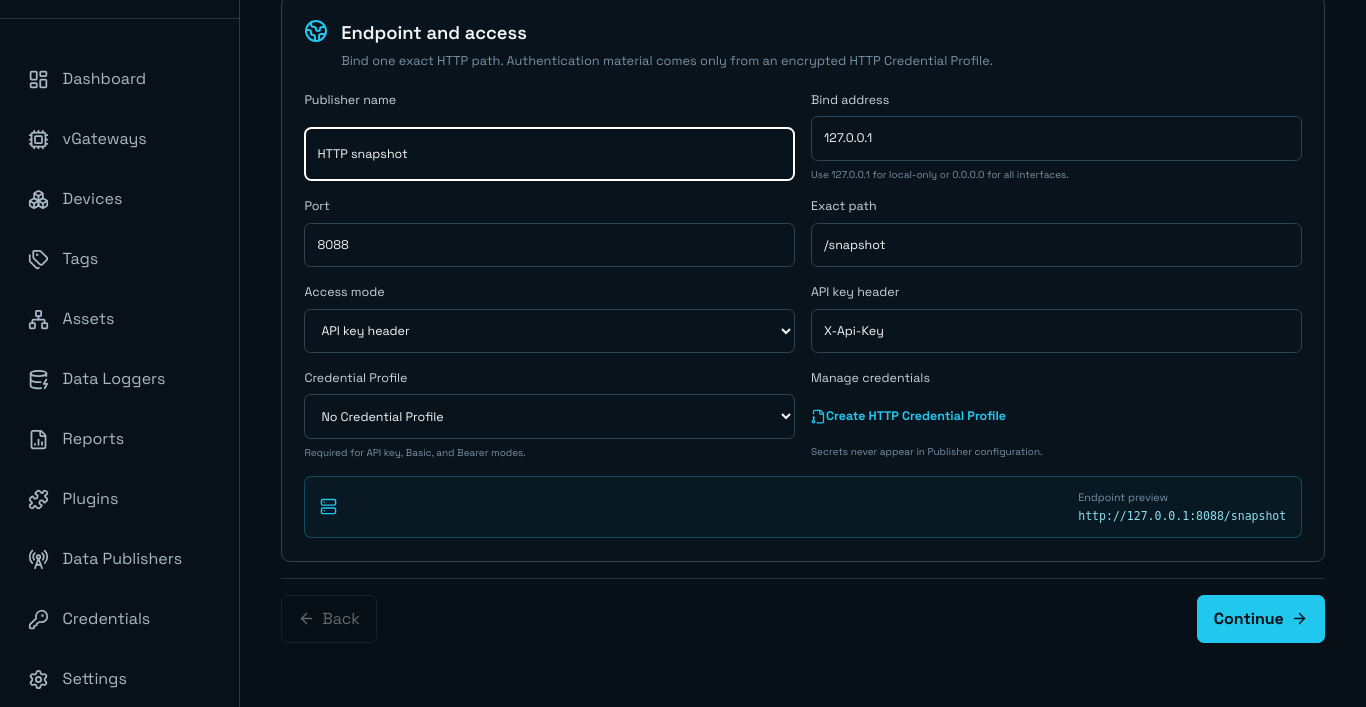
Test: HTTPServerPublisherWizardPage › requires an explicit operator acknowledgement for anonymous access
(page scrolled)
Select "Anonymous" in the dropdown labelled "Access mode" at (550,331), box left=304, top=308, right=795, bottom=353
(page scrolled)
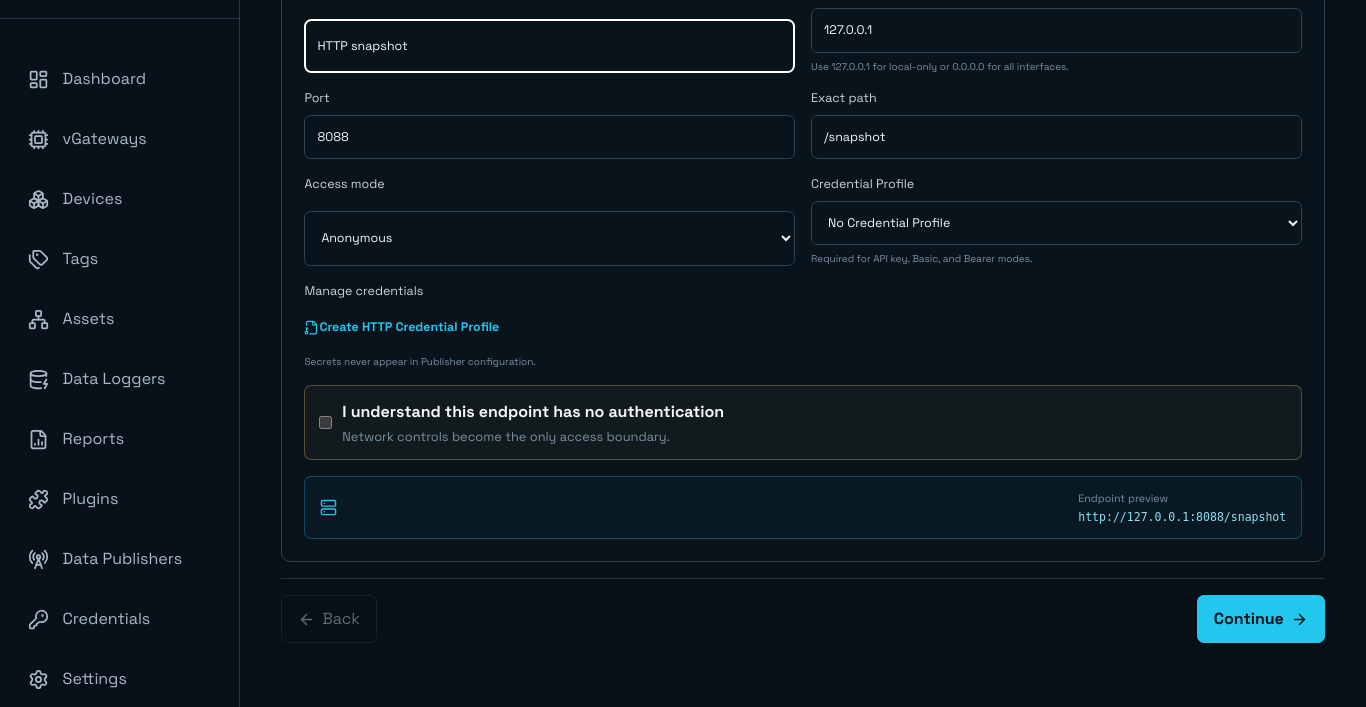
Click the button "Continue" at (1261,619), box left=1197, top=595, right=1325, bottom=643
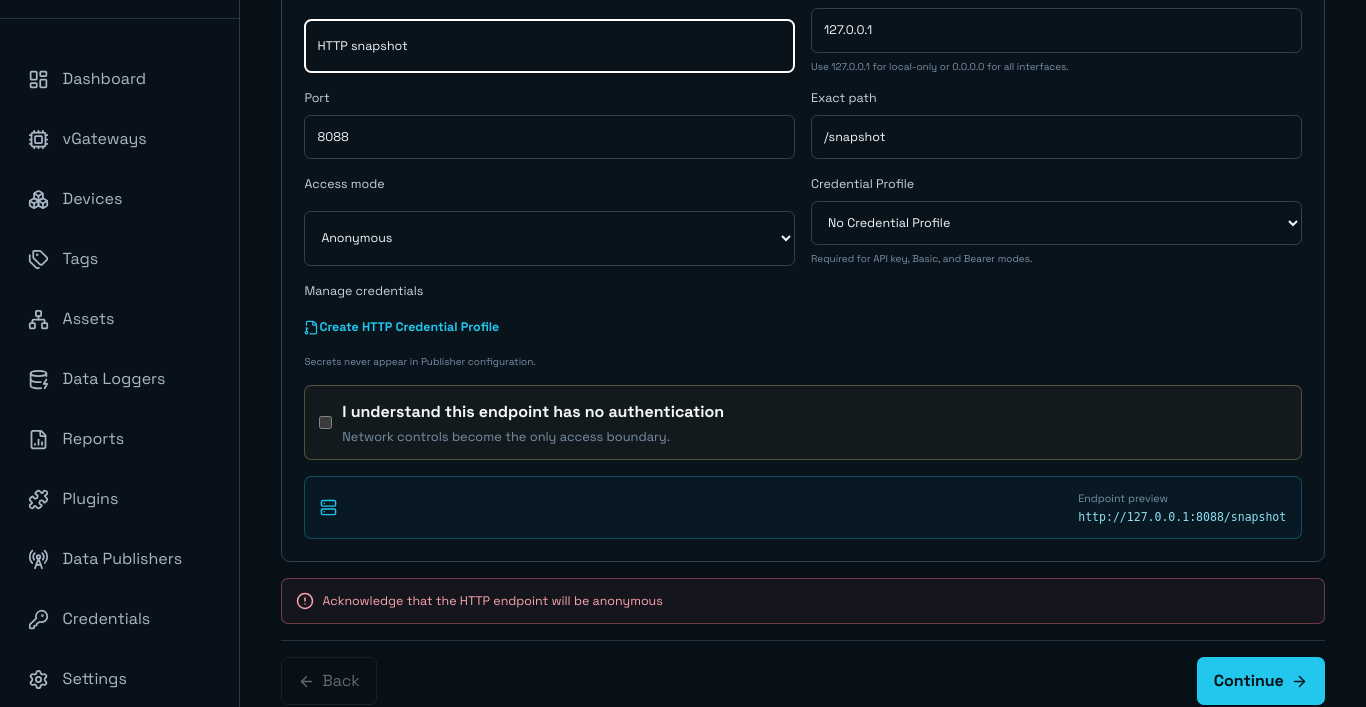
Expected: the message shows "endpoint will be anonymous", left=322, top=593, right=663, bottom=609
Click the checkbox labelled "I understand this endpoint has no authentication" at (326,423), box left=319, top=416, right=332, bottom=429
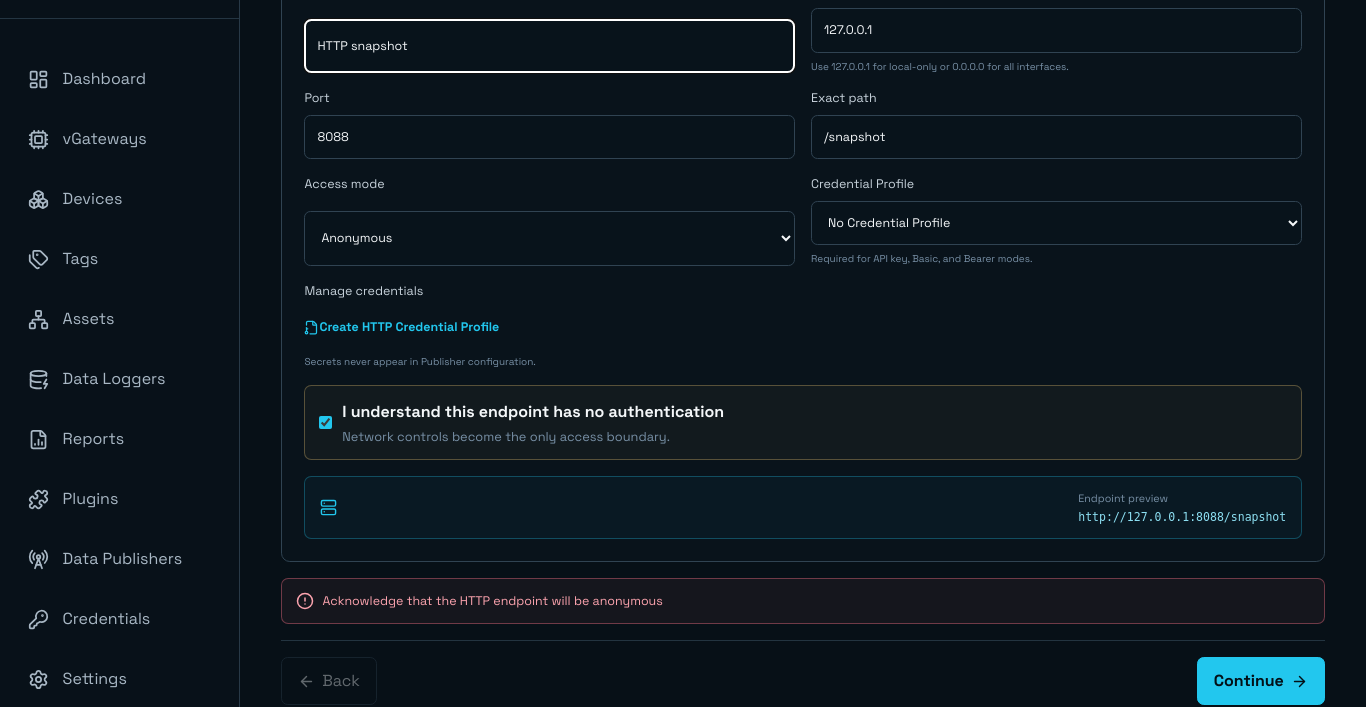
Click the button "Continue" at (1261,681), box left=1197, top=657, right=1325, bottom=705
(page scrolled)
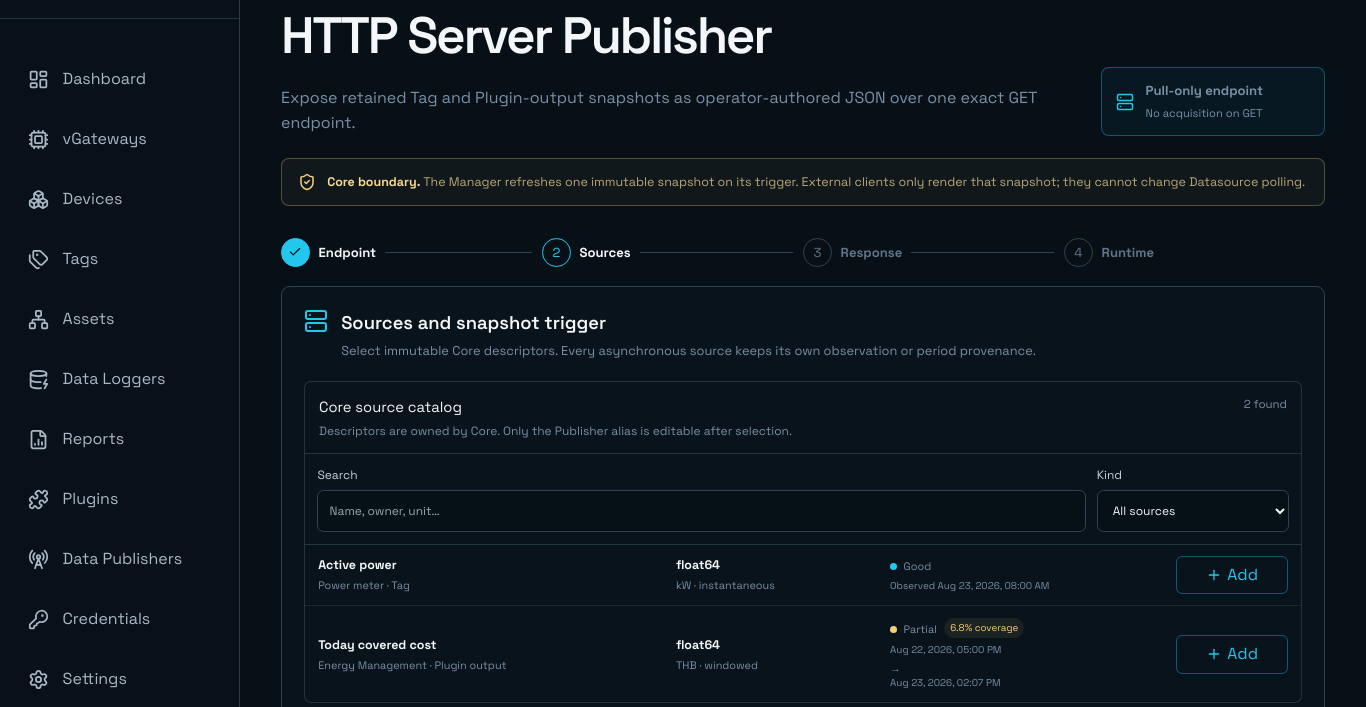
Expected: the heading "Sources and snapshot trigger" is shown, left=341, top=312, right=606, bottom=334
